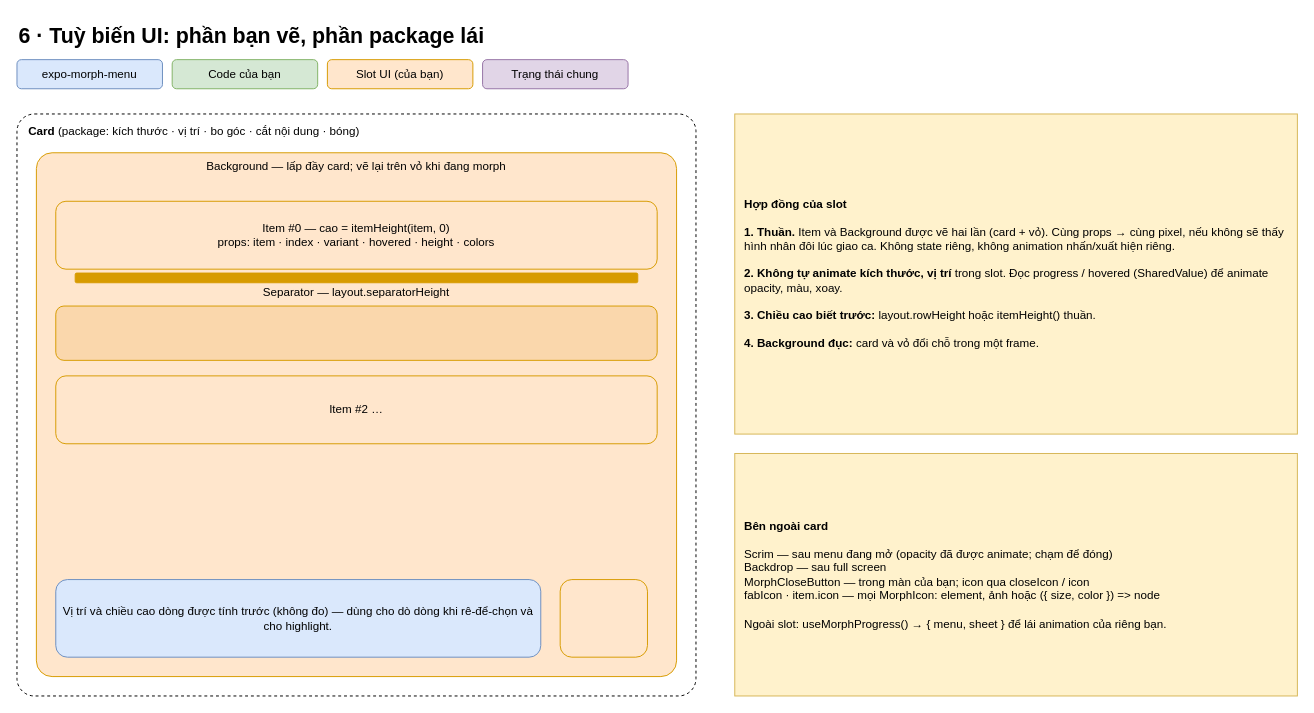
The diagram is 1314 pixels wide and 713 high, and some of its shapes have lost their labels. The shapes that lost their labels are listed below. From the top down, each one's centre as x and y in pixels, then its label:
At (x=356, y=332): "Highlight (sau dòng đang hover) + Item #1".
At (x=603, y=618): "Trigger (mặt nút +)".
